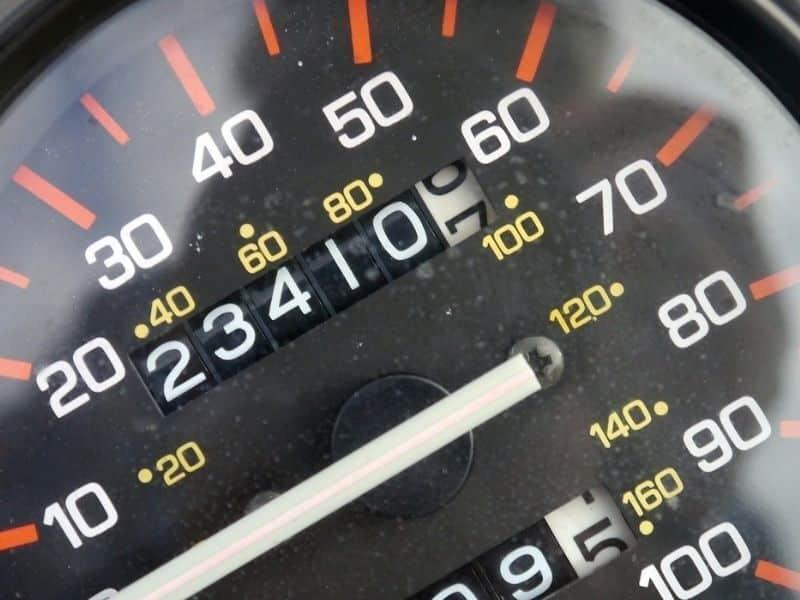odometer: (129, 155, 499, 419)
